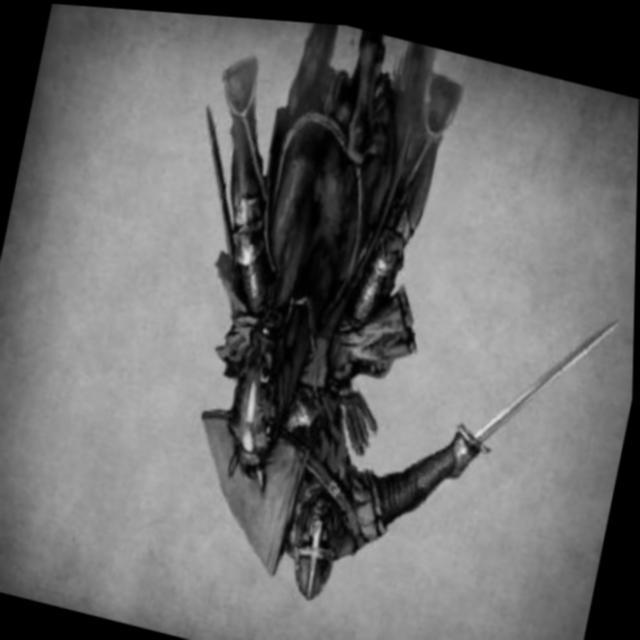weapon: (451, 276, 634, 479)
